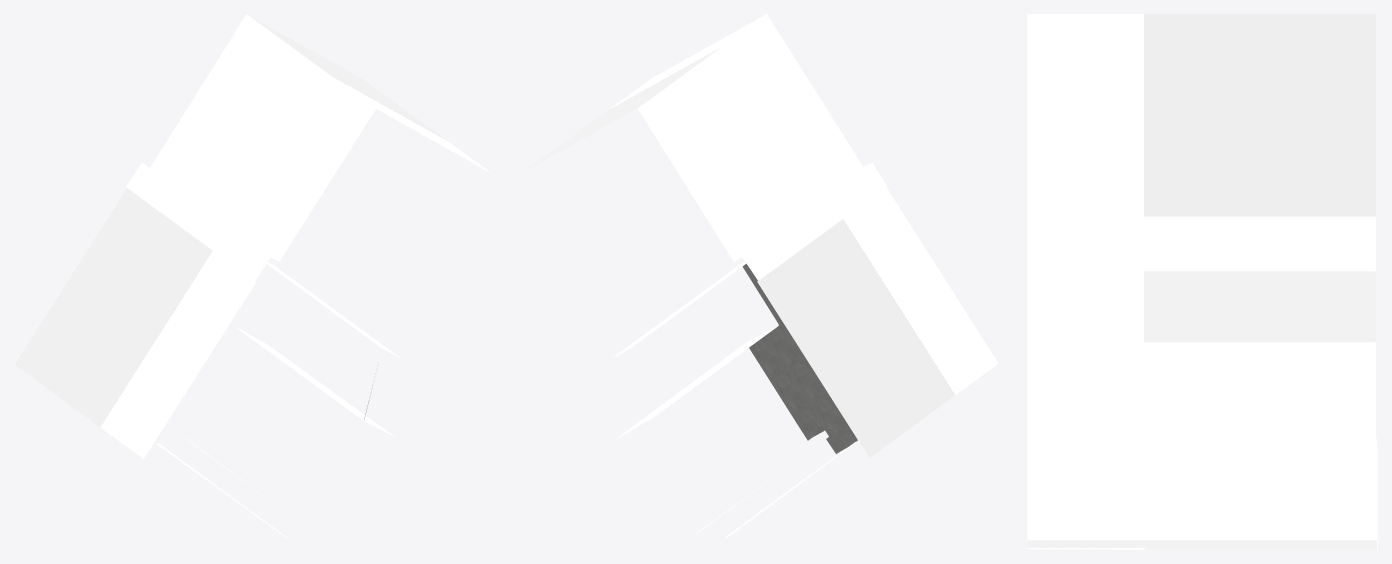
3 renders of one model, left to right at view 1: azimuth 30°, elevation 25°; view 2: azimuth 150°, elevation 25°; view 3: azimuth 270°, elevation 25°, orthographic. The views are drawn at different scales.
Parts seen in each view (by area): view 1: BuildingMaster_0000194337944462288500000000_0; view 2: BuildingMaster_0000194337944462288500000000_0, BuildingMaster_0000194337944462288500000000_1; view 3: BuildingMaster_0000194337944462288500000000_0.
Boxes of the visible parts, x1,y1,x2,y2 form: BuildingMaster_0000194337944462288500000000_0: (14, 14, 490, 537); BuildingMaster_0000194337944462288500000000_0: (523, 14, 998, 537); BuildingMaster_0000194337944462288500000000_1: (742, 263, 857, 453); BuildingMaster_0000194337944462288500000000_0: (1027, 14, 1377, 549).
Size of the model in its own units: 86.75 by 101 by 56.
